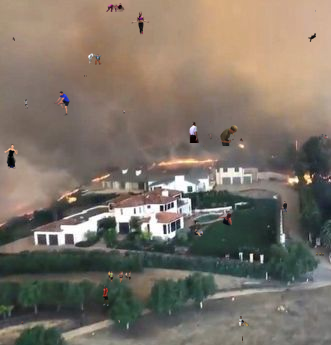Human: (189, 121, 212, 143), (131, 11, 150, 37), (54, 91, 70, 116), (220, 125, 238, 146), (4, 144, 18, 169), (107, 271, 131, 284), (267, 201, 287, 212), (218, 213, 232, 227), (106, 2, 125, 12), (88, 53, 102, 65), (102, 285, 109, 306), (239, 316, 249, 328), (308, 33, 316, 42), (194, 229, 203, 237), (319, 134, 328, 141), (312, 252, 324, 256), (24, 99, 28, 109), (231, 296, 235, 304), (239, 138, 243, 142), (12, 37, 15, 41), (122, 110, 125, 114), (60, 213, 64, 215), (21, 321, 23, 325), (242, 336, 243, 343), (203, 145, 206, 147), (118, 320, 120, 323), (267, 280, 270, 282), (84, 75, 87, 77), (315, 10, 316, 12)
